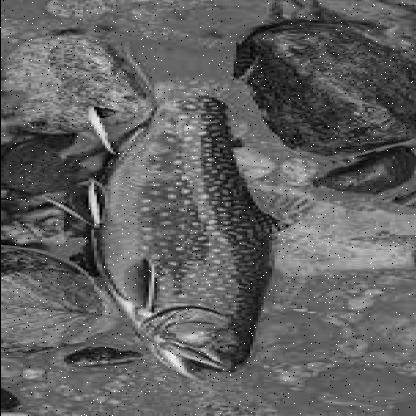fish: (47, 36, 311, 378)
